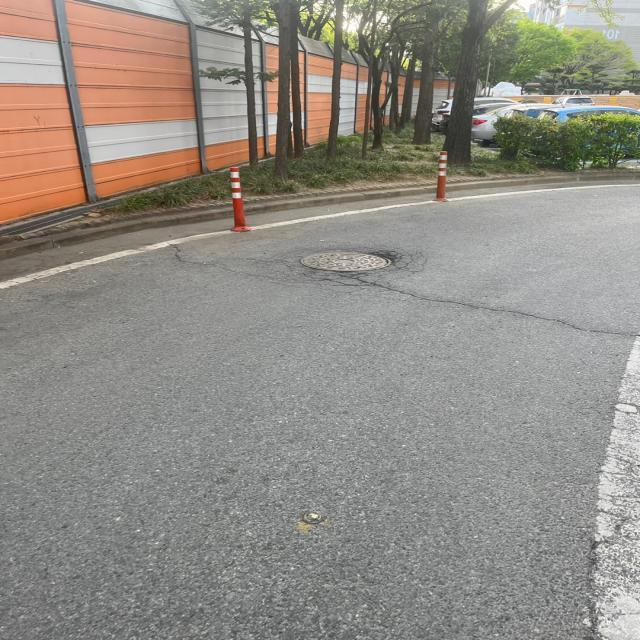Sewer Cover: (283, 240, 431, 290)
